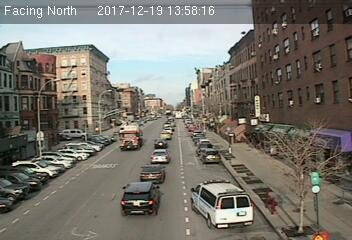car: (120, 183, 161, 215), (139, 164, 166, 182), (200, 148, 222, 164), (149, 149, 168, 164), (153, 139, 167, 149), (159, 130, 172, 140)
police: (188, 177, 255, 229)
truck: (118, 122, 141, 148)
